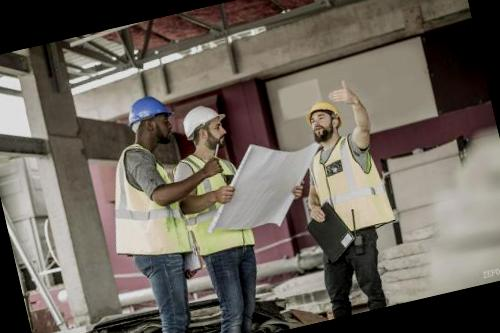person: (94, 86, 228, 333), (282, 85, 414, 318), (161, 95, 284, 333)
